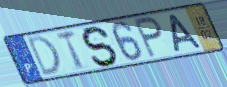6: (111, 20, 144, 62)
A: (169, 13, 205, 54)
D: (25, 34, 64, 79)
P: (132, 15, 165, 59)
S: (81, 25, 120, 68)
T: (54, 29, 87, 72)
